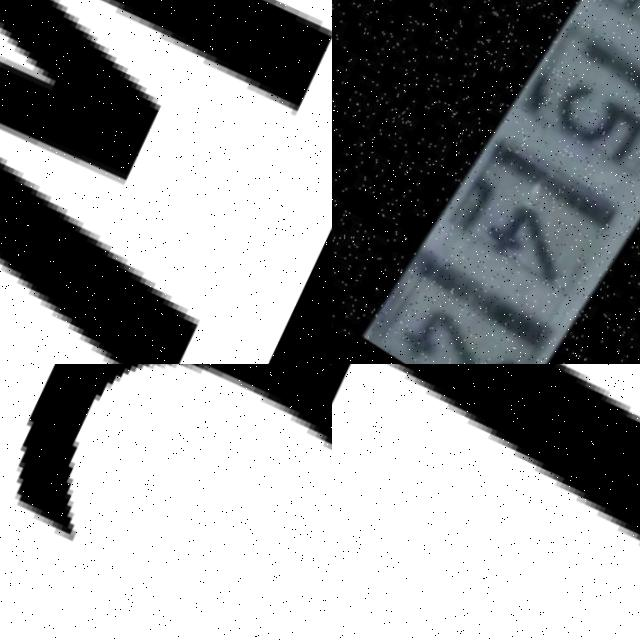4: (452, 167, 605, 312), (380, 277, 511, 364)
5: (530, 62, 640, 188)
C: (11, 364, 332, 540)
L: (332, 364, 640, 640)
W: (0, 0, 332, 364)
